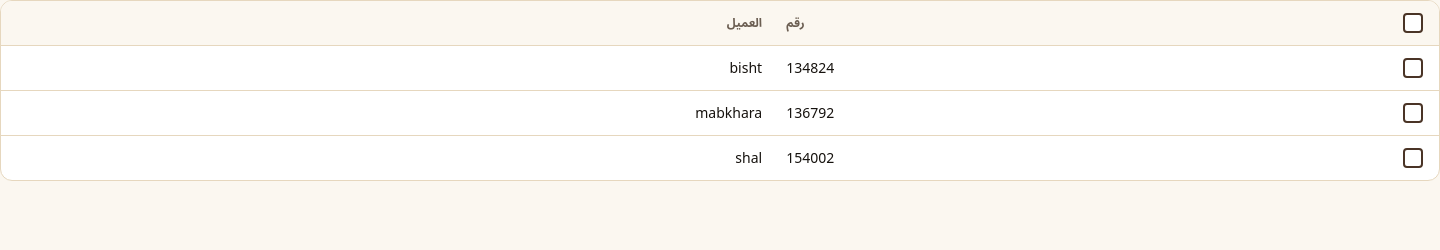
AdminDataTable › selection: mixed header checkbox, dark bulk bar with actions, clear selection
Later steps or results of the test are not shown.
Click the checkbox named "تحديد 134824" at coordinates (1413, 68), box [1395,50,1431,86]
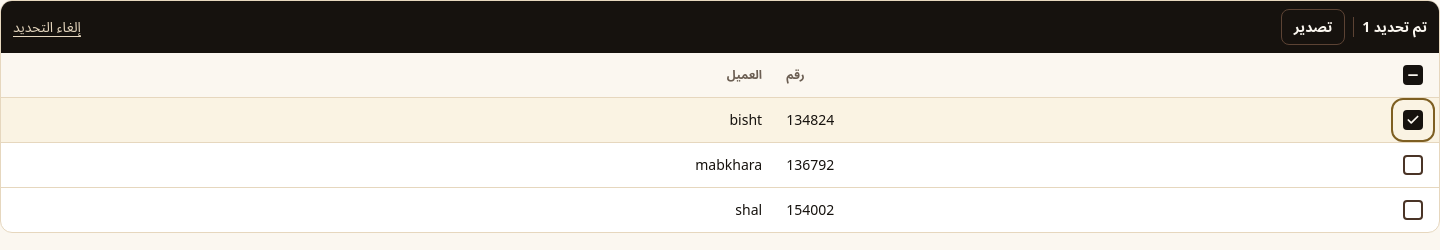
Expected: the checkbox named "تحديد الكل" has attribute data-state="indeterminate", [1395,57,1431,93]
